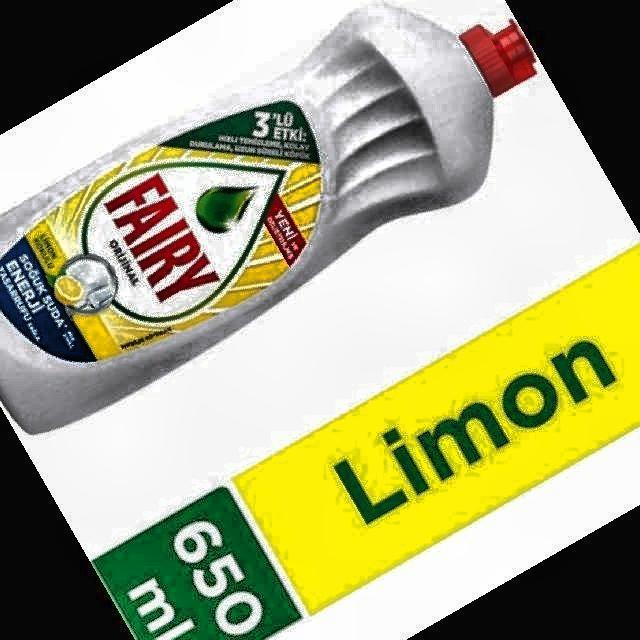plastic: (0, 8, 536, 432)
